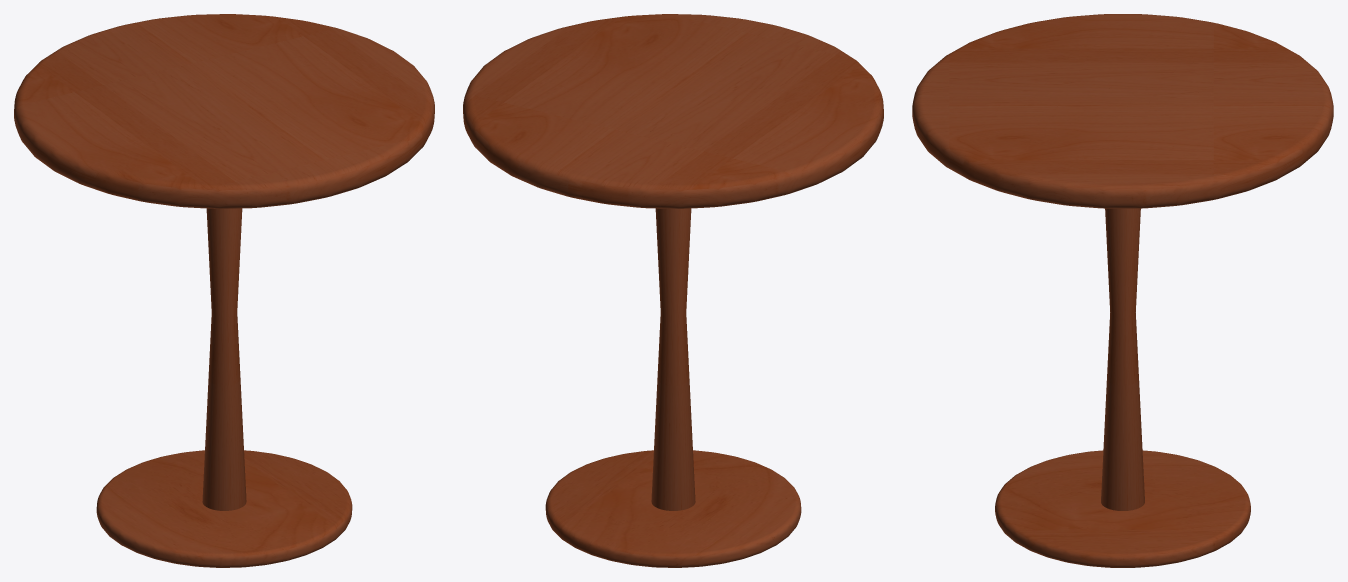
File: Alder Pedistal.glb
3 renders of one model, left to right at view 1: azimuth 30°, elevation 25°; view 2: azimuth 150°, elevation 25°; view 3: azimuth 270°, elevation 25°, orthographic.
Parts seen in each view (by area): view 1: Cylinder, Cylinder.001, Cylinder.002; view 2: Cylinder, Cylinder.001, Cylinder.002; view 3: Cylinder, Cylinder.001, Cylinder.002.
Boxes of the visible parts, x1,y1,x2,y2 form: Cylinder: (14, 14, 434, 208); Cylinder.001: (96, 450, 352, 567); Cylinder.002: (202, 208, 246, 510); Cylinder: (463, 14, 883, 208); Cylinder.001: (545, 450, 801, 567); Cylinder.002: (651, 208, 695, 510); Cylinder: (912, 14, 1333, 208); Cylinder.001: (995, 450, 1250, 567); Cylinder.002: (1101, 208, 1144, 510).
Size of the model in its own units: 1.99 by 2.17 by 2.
1 material, 1 textured.
